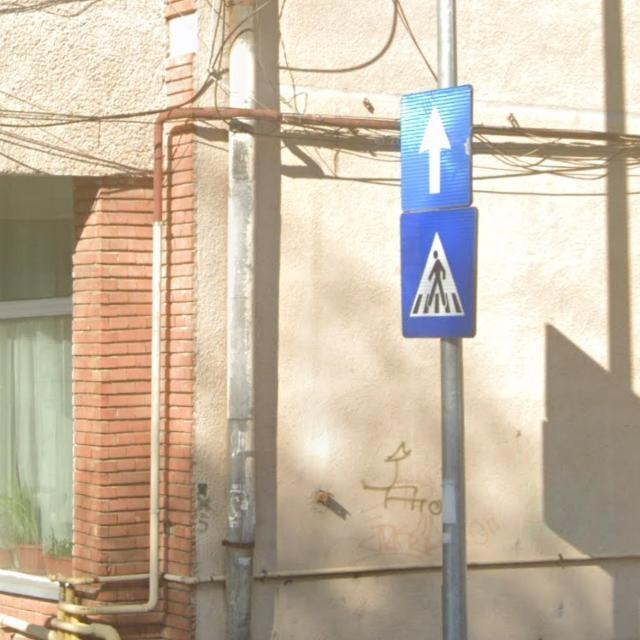info_crosswalk: (399, 207, 477, 339)
